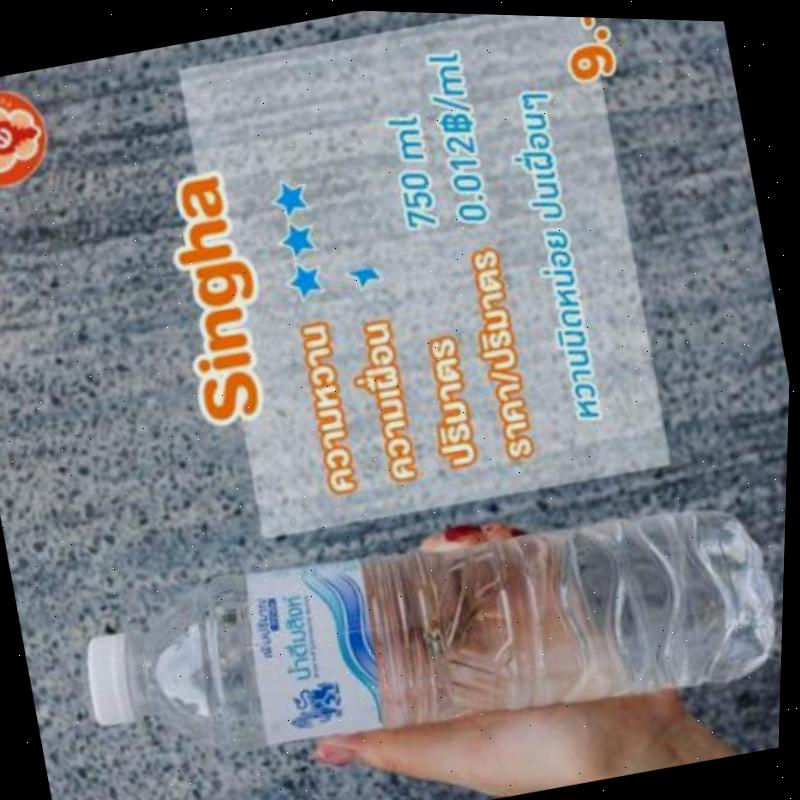botella: (72, 458, 789, 800)
